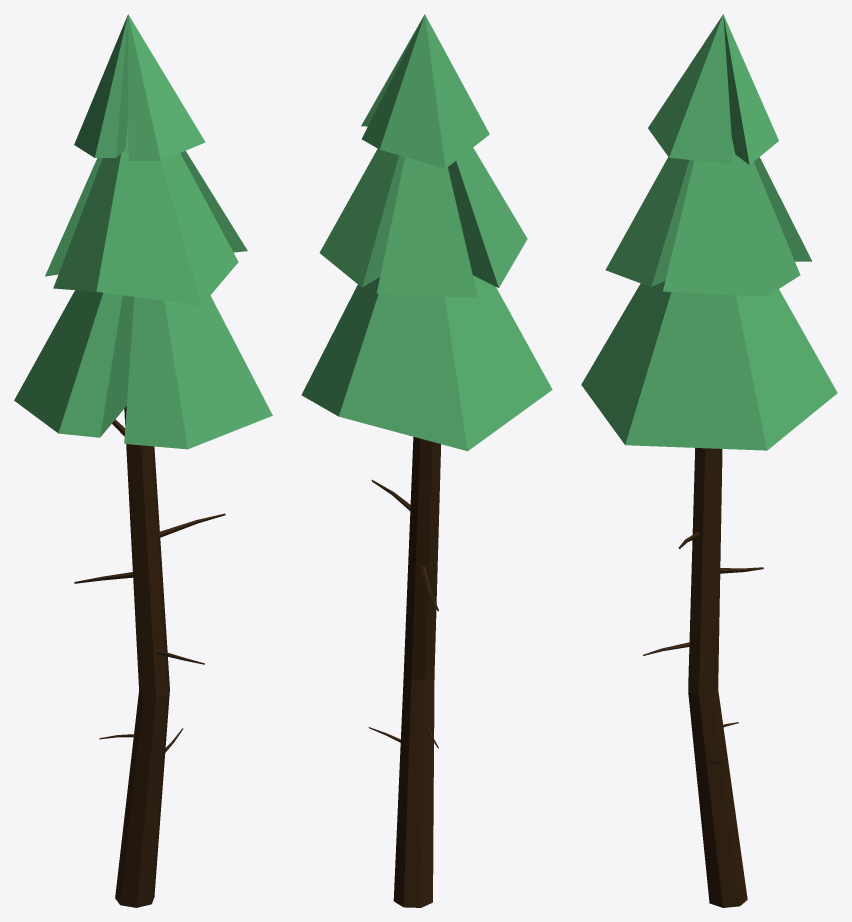
The model's file is iglak_2.fbx.
3 renders of one model, left to right at view 1: azimuth 30°, elevation 25°; view 2: azimuth 150°, elevation 25°; view 3: azimuth 270°, elevation 25°, orthographic.
Parts seen in each view (by area): view 1: Drzewo_2_LOD0; view 2: Drzewo_2_LOD0; view 3: Drzewo_2_LOD0.
Boxes of the visible parts, bbox=[...] form: Drzewo_2_LOD0: bbox=[14, 14, 272, 907]; Drzewo_2_LOD0: bbox=[301, 14, 552, 907]; Drzewo_2_LOD0: bbox=[581, 14, 837, 907].
Size of what is drawn, in the model's own units: 1657 by 7015 by 1851.
